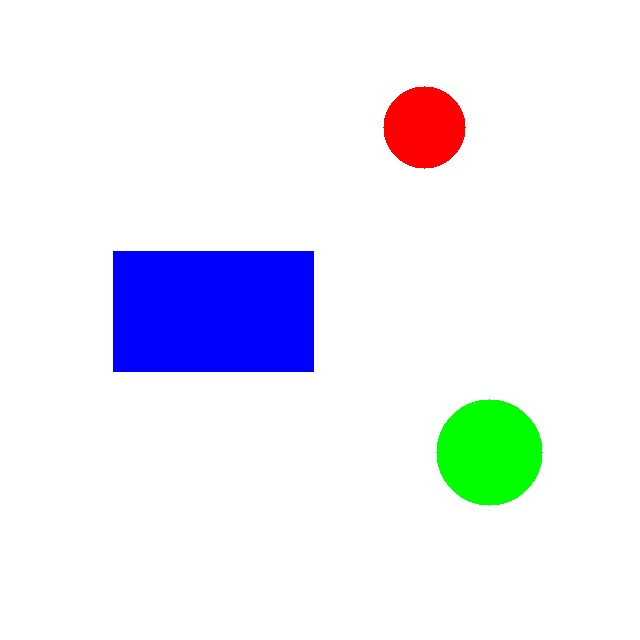cartao: (113, 251, 313, 371)
rosca_externa: (436, 399, 542, 505)
rosca_interna: (383, 86, 465, 168)
